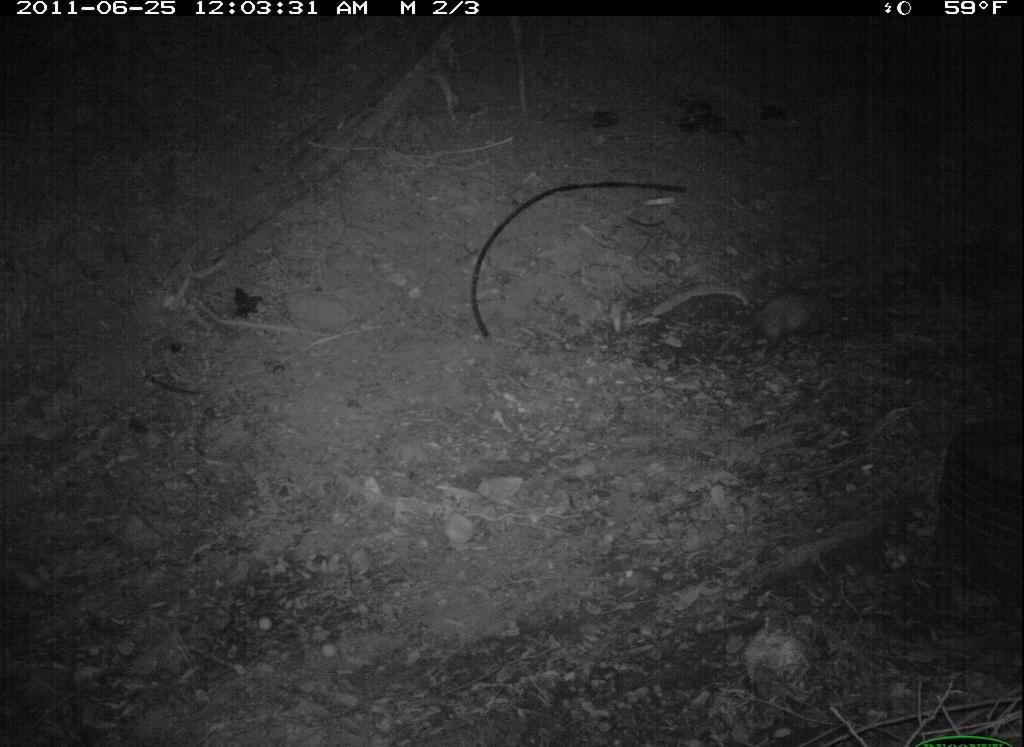opossum: (712, 268, 870, 383)
